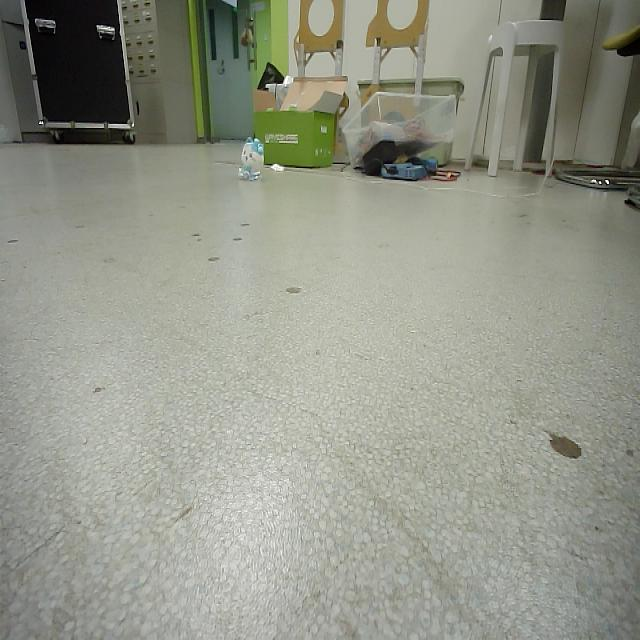xiaoba: (236, 136, 268, 184)
